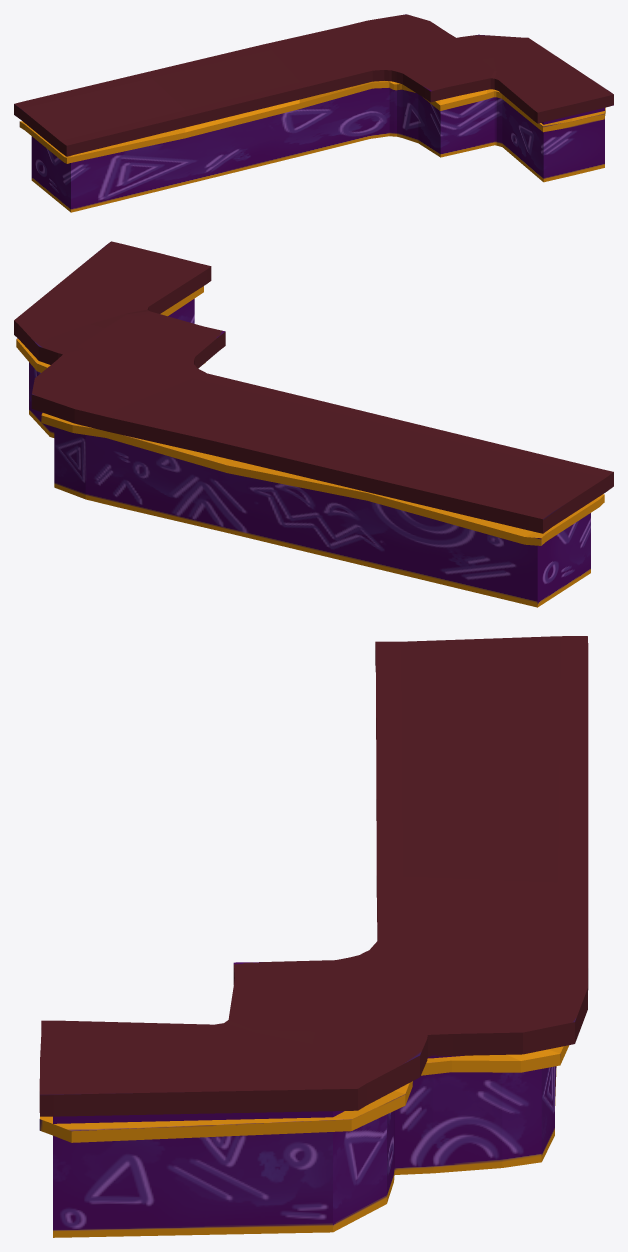
Rendered from front_desk.fbx.
3 renders of one model, top to bottom at view 1: azimuth 30°, elevation 25°; view 2: azimuth 150°, elevation 25°; view 3: azimuth 270°, elevation 25°, orthographic. The views are drawn at different scales.
Visible parts, largest first — view 1: front_desk; view 2: front_desk; view 3: front_desk.
Boxes of the visible parts, bbox=[...] form: front_desk: bbox=[14, 14, 613, 212]; front_desk: bbox=[14, 241, 613, 607]; front_desk: bbox=[39, 636, 588, 1237].
Size of the model in its own units: 8.87 by 4.55 by 1.42.
Materials: 1 (1 with a texture image).
